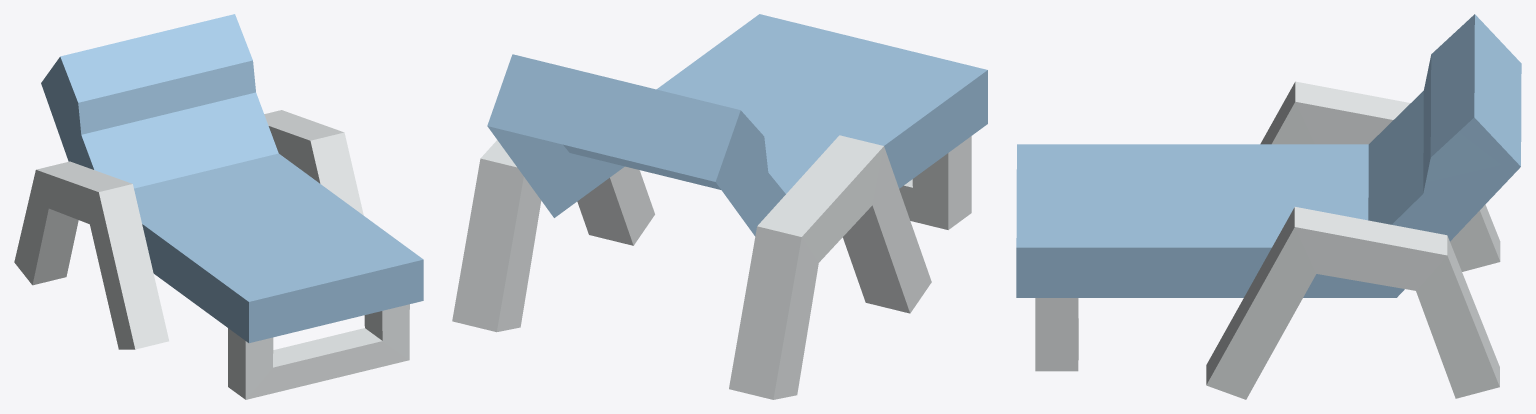
Rendered from lounge01_s03.FBX.
The picture shows the model from 3 angles, left to right: view 1: azimuth 30°, elevation 25°; view 2: azimuth 150°, elevation 25°; view 3: azimuth 270°, elevation 25°; orthographic projection. The views are drawn at different scales.
Parts seen in each view (by area): view 1: lounge01_s03; view 2: lounge01_s03; view 3: lounge01_s03.
Part boxes in pixels (left/top/right/bottom): lounge01_s03: left=14, top=14, right=423, bottom=399; lounge01_s03: left=452, top=14, right=987, bottom=399; lounge01_s03: left=1016, top=14, right=1521, bottom=399.
Bounding box in the file's own units: 114 × 167 × 95.27.
1 material, 1 textured.
